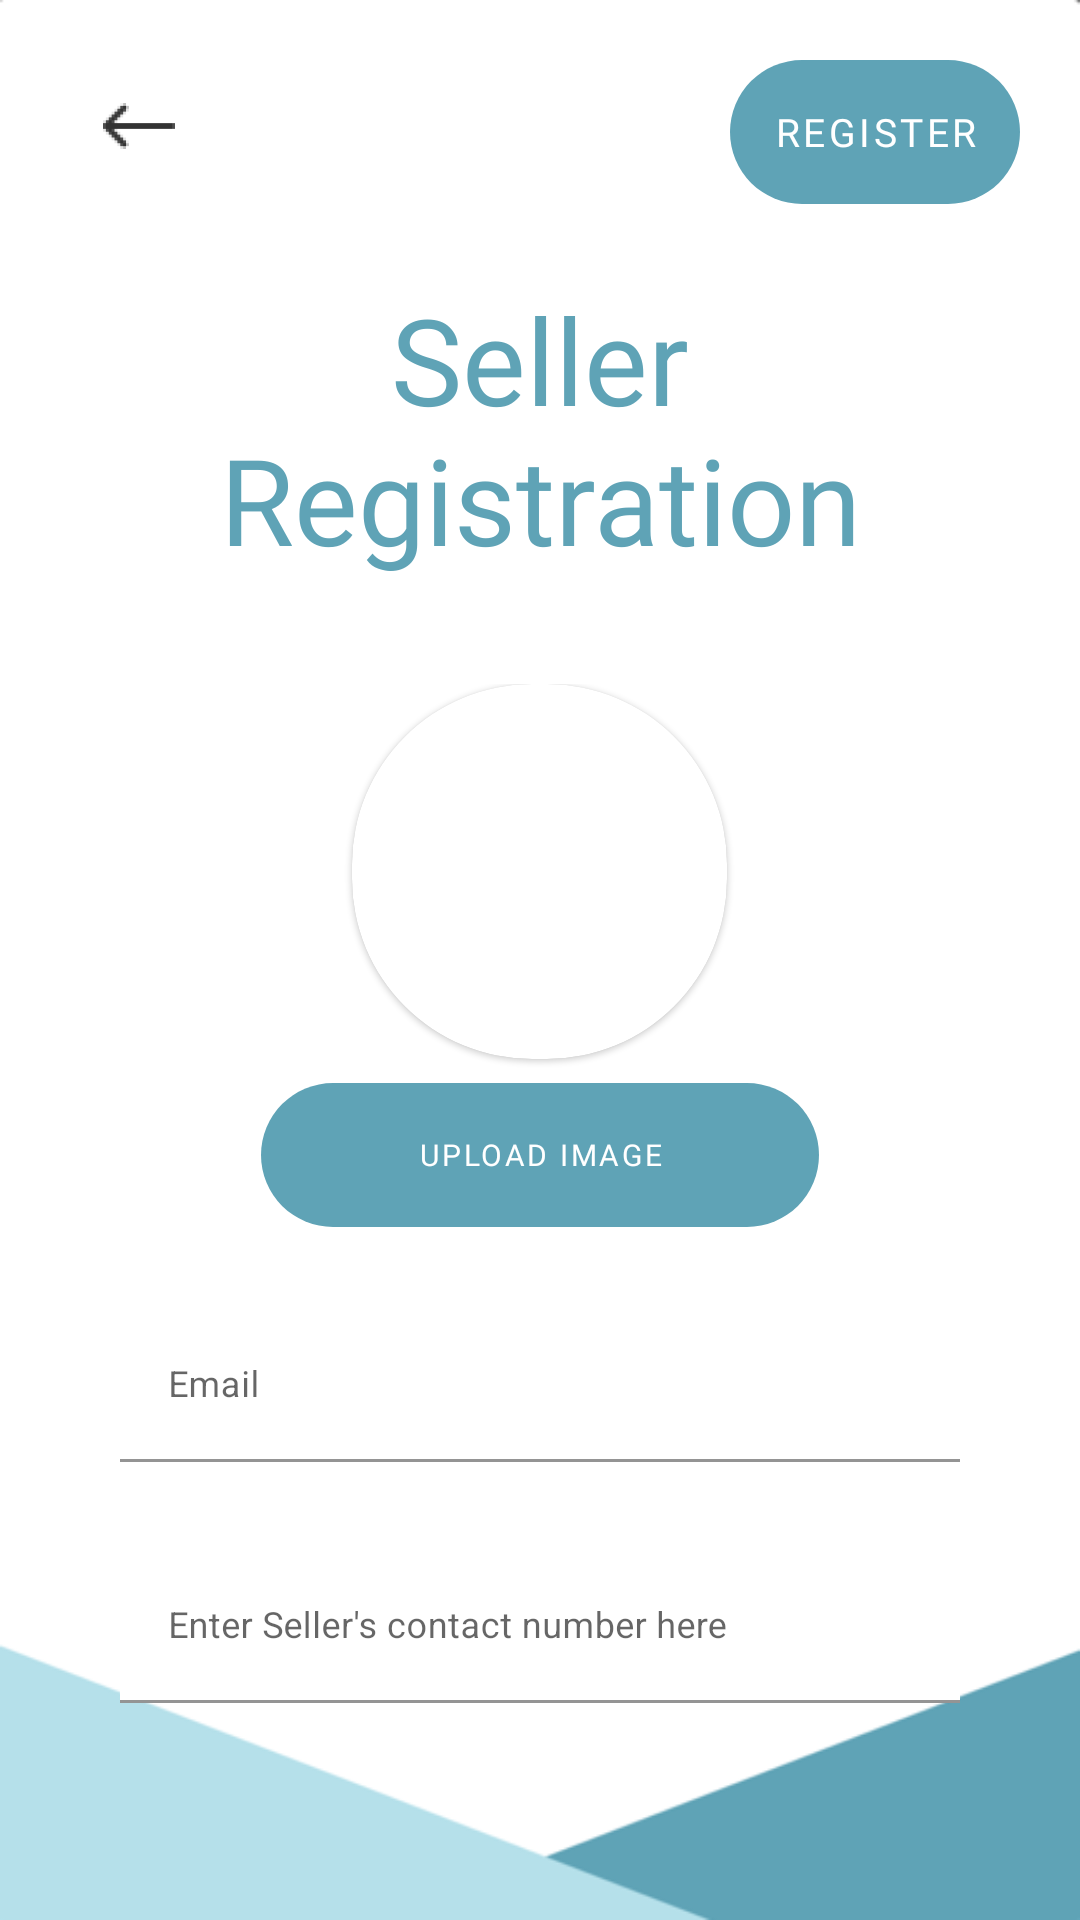

Named icons in this screenshot (1080px×1920px) and their bounding boxes, (x1, y1, x2, y2):
back: (103, 103, 175, 149)
